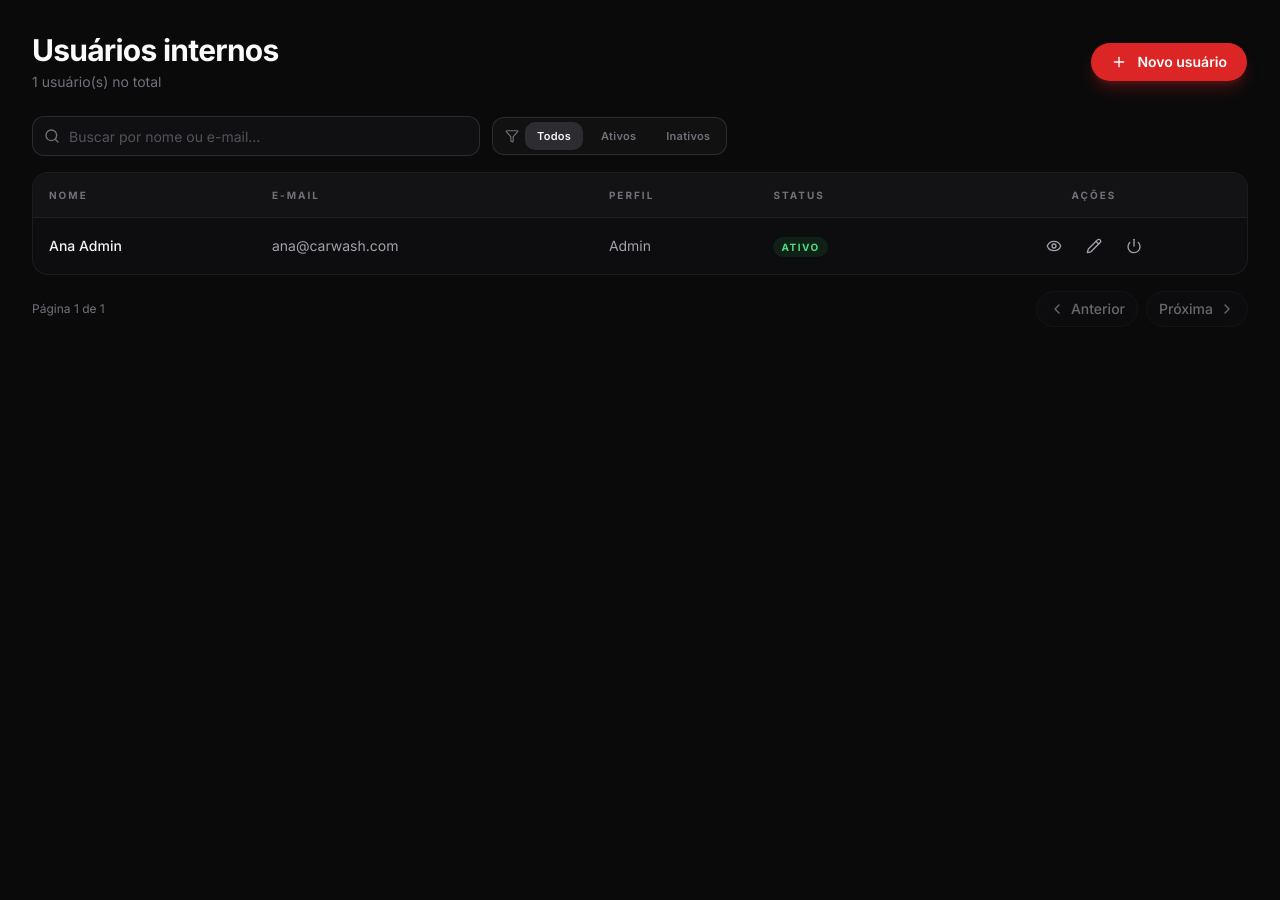
Test case: UsuariosListaPage (RF014) — toggle de status via modal de confirmação › 6b. erro no PATCH exibe alerta com o nome do usuário e mantém o status
Expected: the text "Ana Admin" is shown, 49,237 -> 122,254
Click the button named "Inativar Ana Admin". click: (1134, 246)
box: 1118,230 -> 1150,262
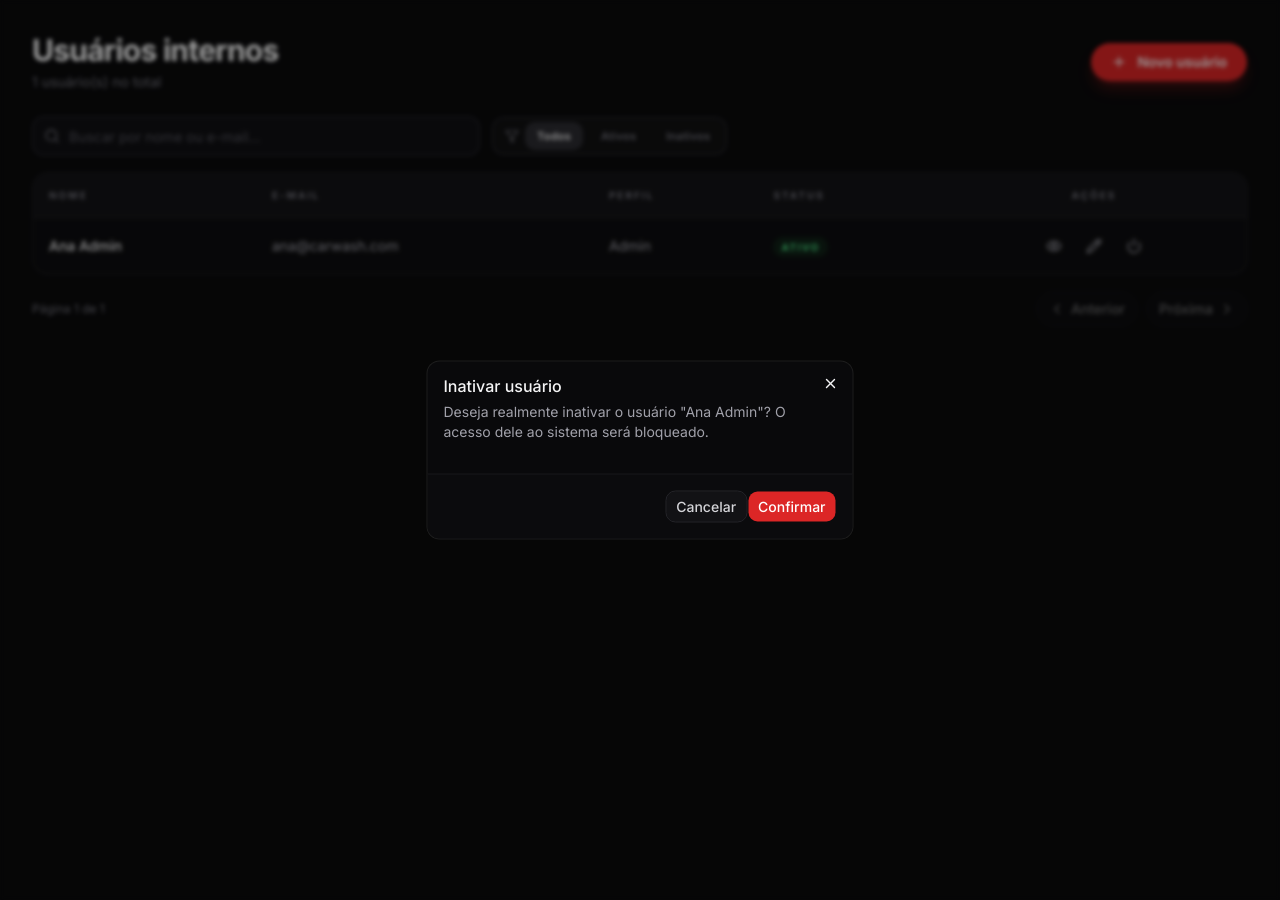
Result: the dialog is shown at 428,362 -> 852,538
Click the button "Confirmar". click: (792, 506)
box: 747,490 -> 836,522
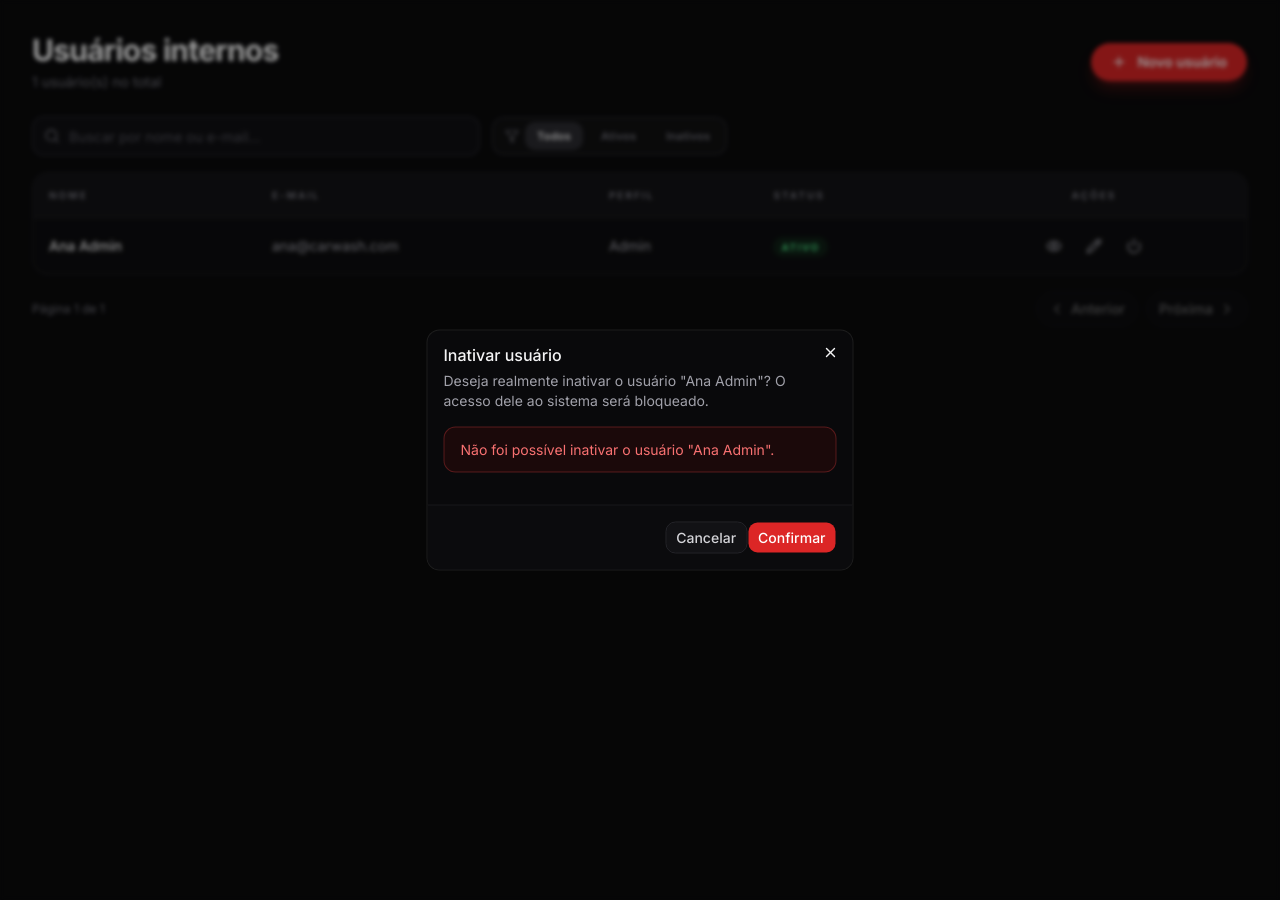
Expected: the text "ATIVO" is shown, 774,236 -> 828,256
Result: the message reads "Não foi possível inativar o usuário \"Ana Admin\"." at 460,440 -> 774,458
